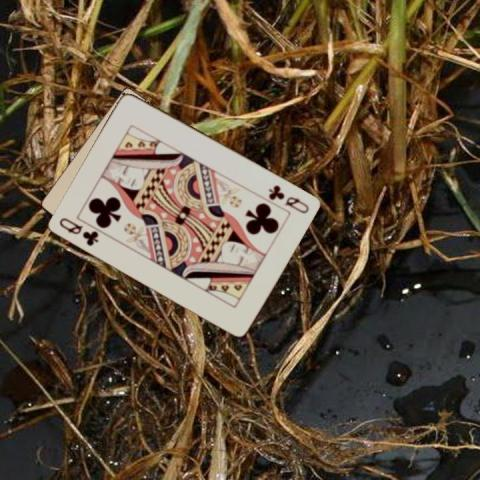Qc: (266, 182, 312, 215), (56, 214, 100, 247)
